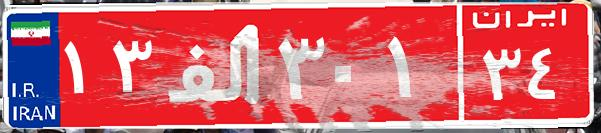0: (330, 28, 385, 110)
1: (385, 28, 445, 110), (57, 26, 110, 107)
3: (273, 28, 330, 110), (475, 38, 525, 113), (110, 28, 158, 105)
4: (525, 38, 570, 115)
الف: (158, 15, 273, 115)
